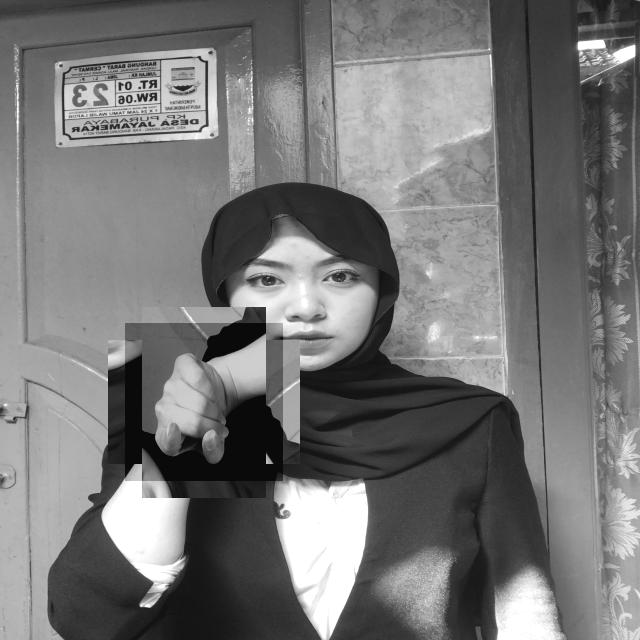kamu: (125, 323, 283, 481)
